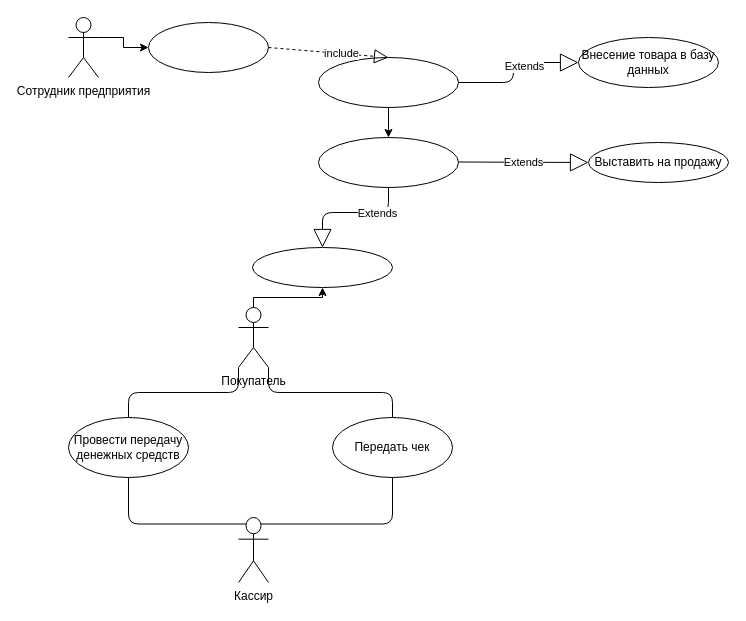
Some shapes in this 746 by 621 pixel diagram are drawn without their labels. Here are the shapes that lost their labels. From the top down, the centre of each, then its label:
At [208,47]: "Принятие товара".
At [388,82]: "Проверка наличия товара в базе данных".
At [388,162]: "Проверить выставлен ли товар данного вида на продажу".
At [322,267]: "Клиент решил купить товар".
